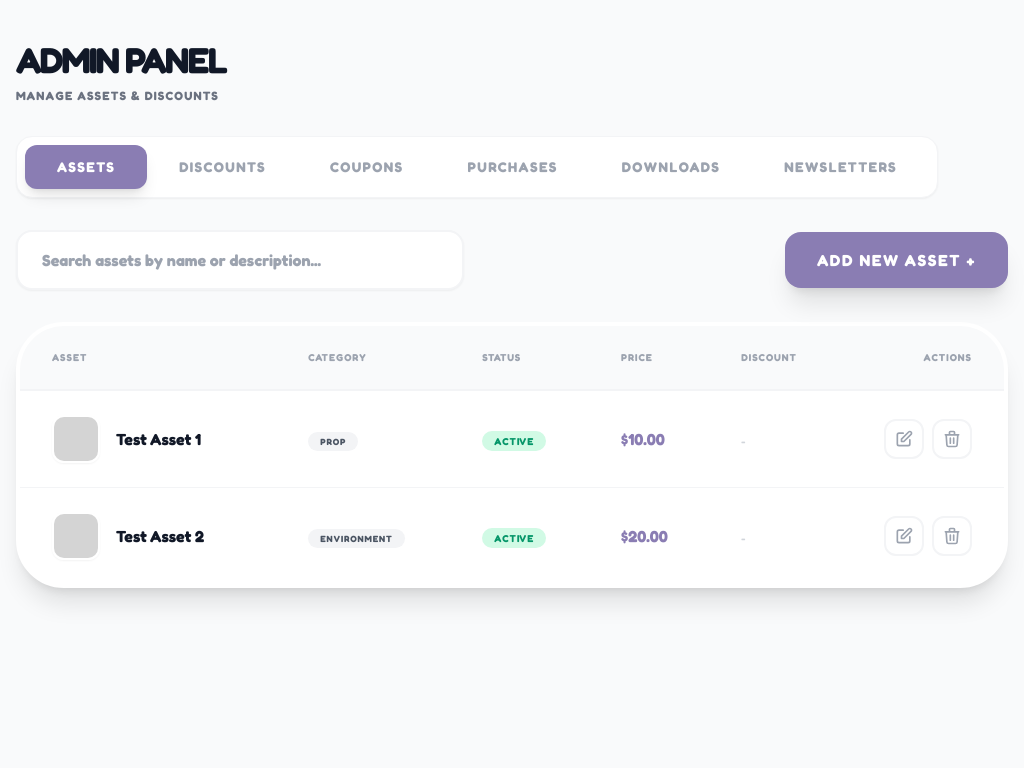
Test: AdminPage › opens the product edit form and shows new store fields
Click the link named "Edit" at (904, 439), box [884,419,924,459]
(page scrolled)
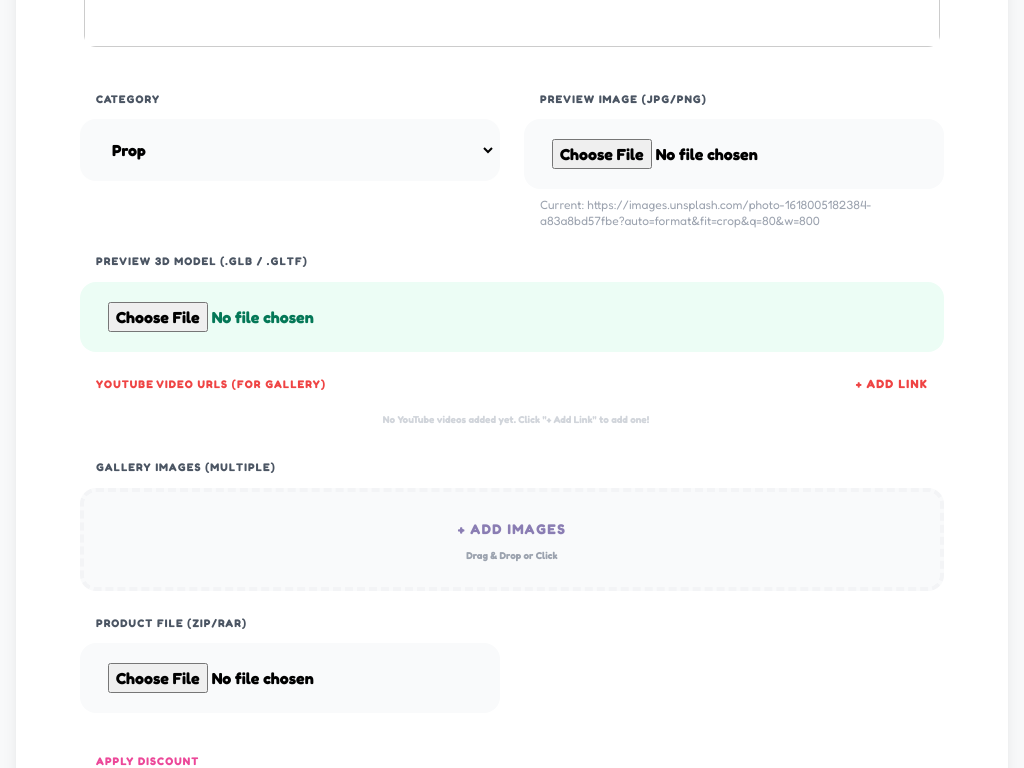
Result: the text "YouTube Video URLs (For Gallery)" is shown at [96,376,326,392]
